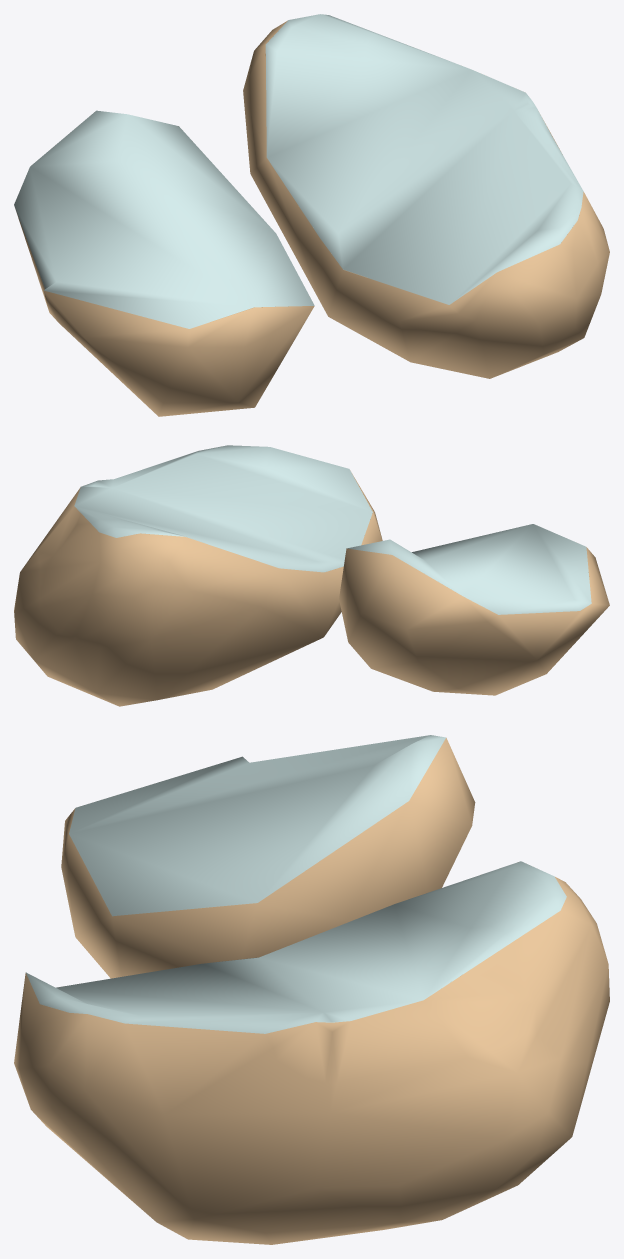
The model's file is Sesamoid_bones_foot_right_003.glb.
The picture shows the model from 3 angles, top to bottom: view 1: azimuth 30°, elevation 25°; view 2: azimuth 150°, elevation 25°; view 3: azimuth 270°, elevation 25°; orthographic projection. The views are drawn at different scales.
Parts seen in each view (by area): view 1: Sesamoid_bones_of_foot.r.003_Generated_Mesh_From_X3D.257; view 2: Sesamoid_bones_of_foot.r.003_Generated_Mesh_From_X3D.257; view 3: Sesamoid_bones_of_foot.r.003_Generated_Mesh_From_X3D.257.
Boxes of the visible parts, x1,y1,x2,y2 form: Sesamoid_bones_of_foot.r.003_Generated_Mesh_From_X3D.257: [14, 14, 609, 416]; Sesamoid_bones_of_foot.r.003_Generated_Mesh_From_X3D.257: [14, 445, 609, 706]; Sesamoid_bones_of_foot.r.003_Generated_Mesh_From_X3D.257: [14, 735, 609, 1244].
Bounding box in the file's own units: 0.0174 × 0.00802 × 0.0136.
